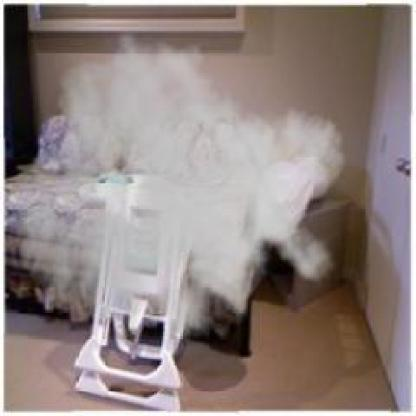Smoke: (13, 22, 348, 377)
